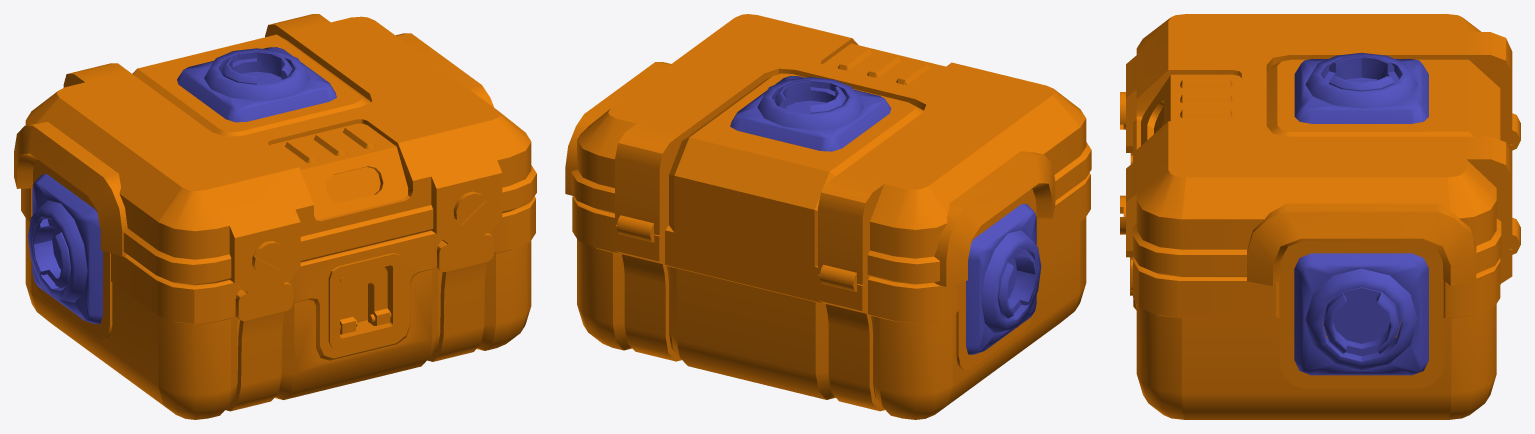
The model's file is obj_interactive_chest.fbx.
3 views of the same model, side by side, from view 1: azimuth 30°, elevation 25°; view 2: azimuth 150°, elevation 25°; view 3: azimuth 270°, elevation 25° (orthographic). The views are drawn at different scales.
Parts seen in each view (by area): view 1: obj_interactive_chest; view 2: obj_interactive_chest; view 3: obj_interactive_chest.
Part boxes in pixels (x1,y1,x2,y2): obj_interactive_chest: (14, 14, 536, 419); obj_interactive_chest: (565, 14, 1091, 419); obj_interactive_chest: (1120, 14, 1520, 419).
Size of the model in its own units: 5.71 by 3.32 by 4.46.
